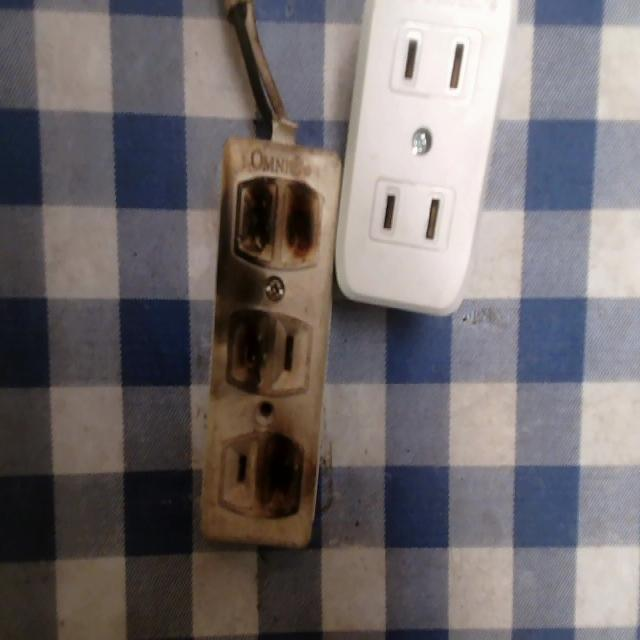-: (232, 171, 326, 277), (254, 429, 313, 532), (228, 309, 276, 400)
